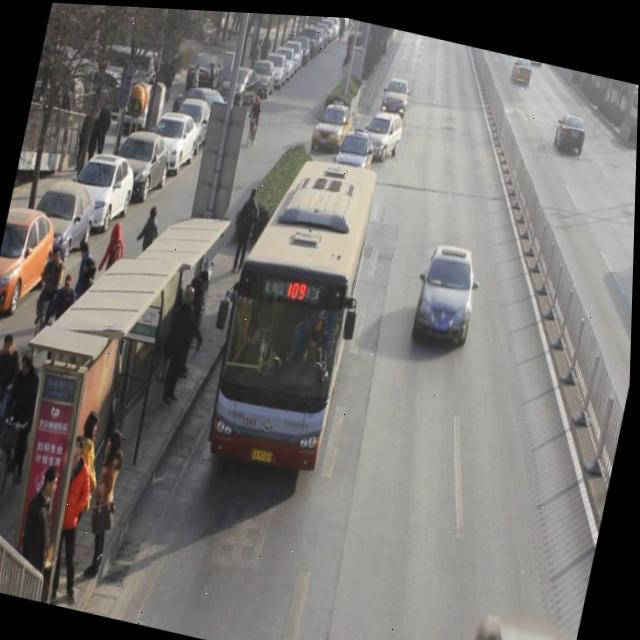car: (412, 235, 485, 343), (360, 100, 407, 161), (311, 92, 357, 152), (334, 117, 379, 172), (552, 103, 590, 149), (381, 70, 412, 111), (509, 50, 532, 79)
van: (205, 141, 378, 471)
